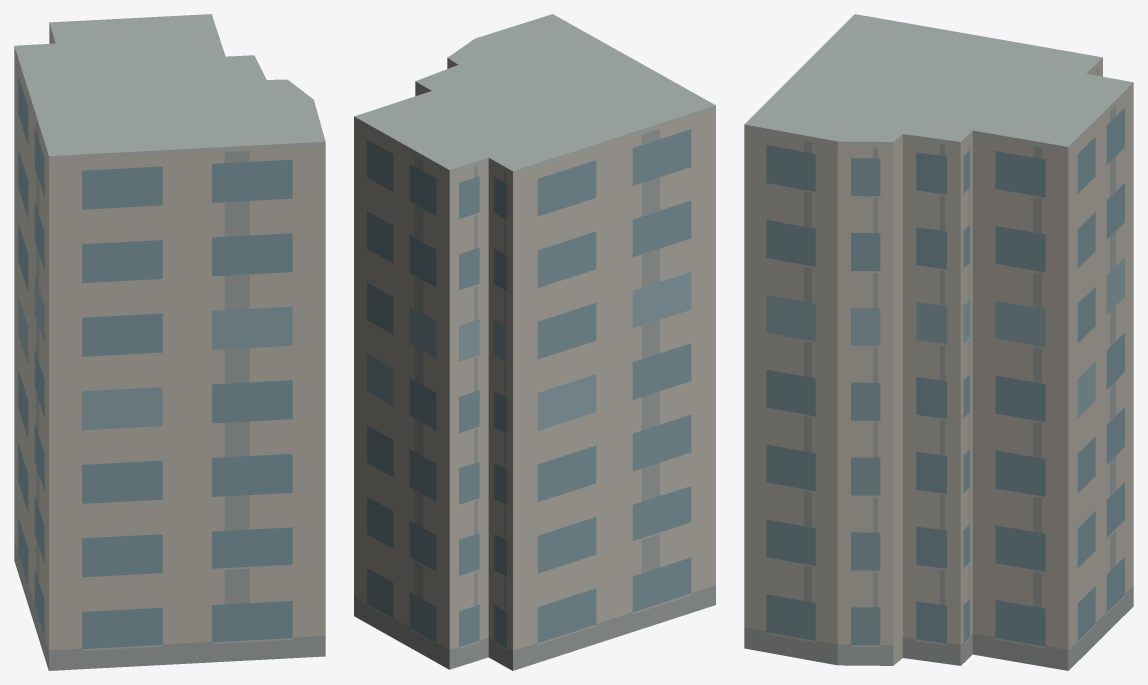
File: survey-upis-32567534.glb
The picture shows the model from 3 angles, left to right: view 1: azimuth 30°, elevation 25°; view 2: azimuth 150°, elevation 25°; view 3: azimuth 270°, elevation 25°; orthographic projection. The views are drawn at different scales.
Parts seen in each view (by area): view 1: survey-upis-32567534.tmp; view 2: survey-upis-32567534.tmp; view 3: survey-upis-32567534.tmp.
Part boxes in pixels (left/top/right/bottom): survey-upis-32567534.tmp: left=14, top=14, right=325, bottom=670; survey-upis-32567534.tmp: left=354, top=14, right=715, bottom=670; survey-upis-32567534.tmp: left=744, top=14, right=1133, bottom=670.
Size of the model in its own units: 12.83 by 23.55 by 15.87.
